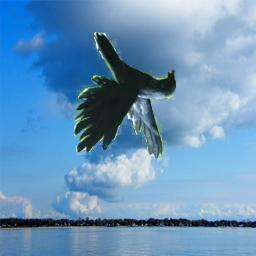Crow: (74, 32, 176, 162)
